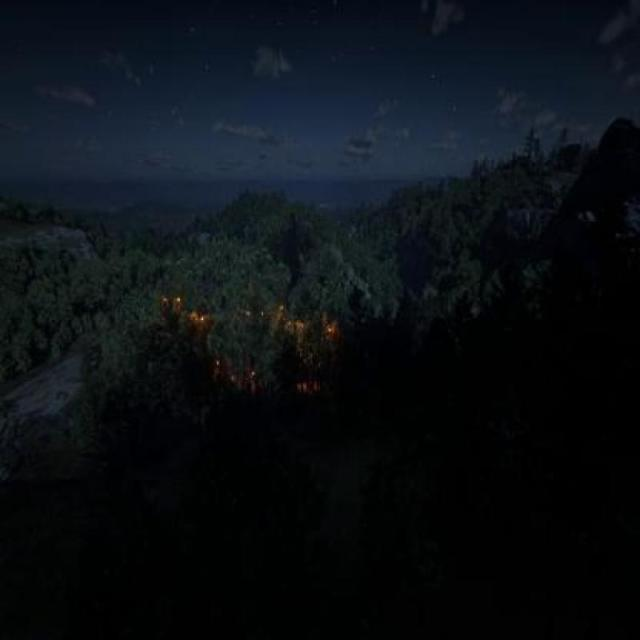Fire: (158, 282, 336, 404)
